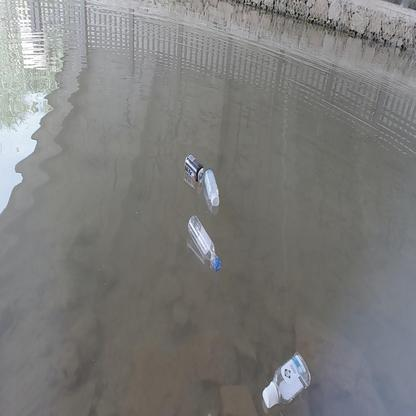can: (184, 154, 205, 184)
plastic bottle: (262, 352, 311, 409), (186, 216, 222, 271), (204, 168, 221, 206)
